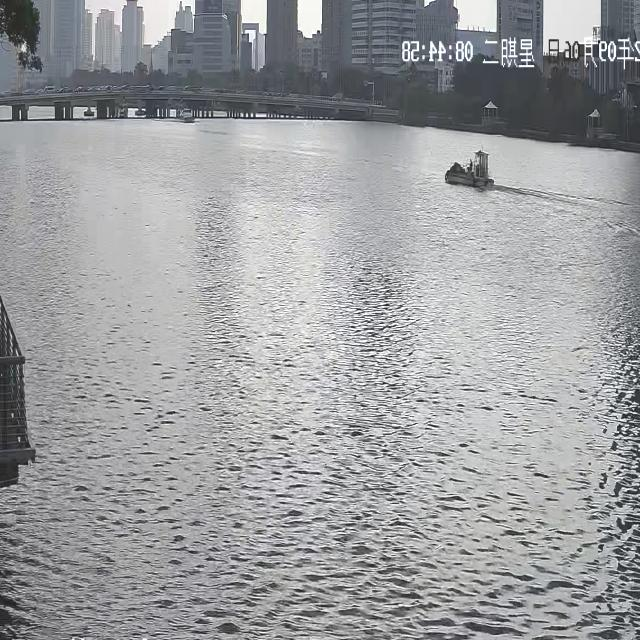ship: (445, 147, 495, 187)
